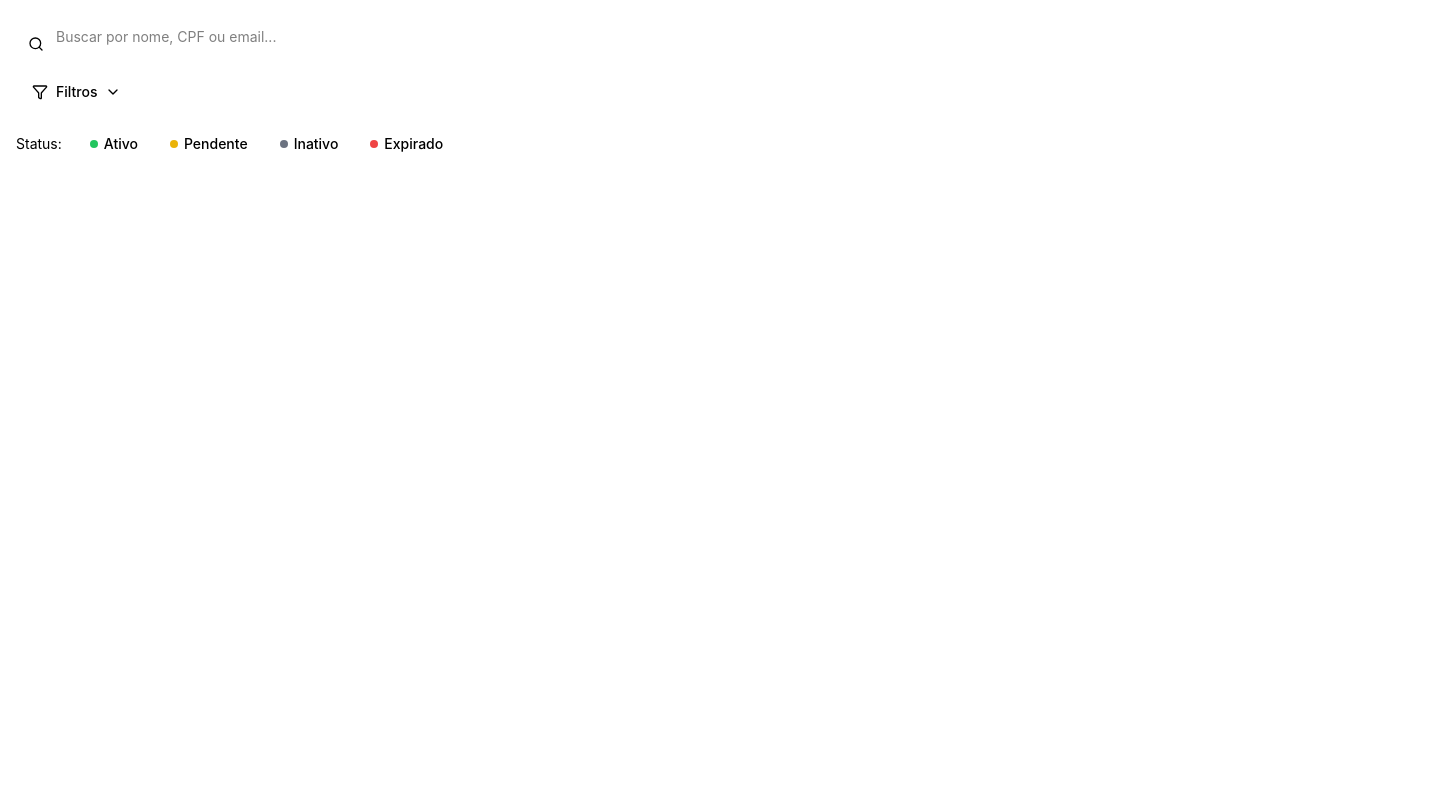
Test case: MemberFilters › should hide advanced filters when Filtros button clicked again
What coordinates should you click on to do the following:
click the button "Filtros"
I would click on:
 (77, 92)
Its box is x1=16 y1=72 x2=137 y2=112.
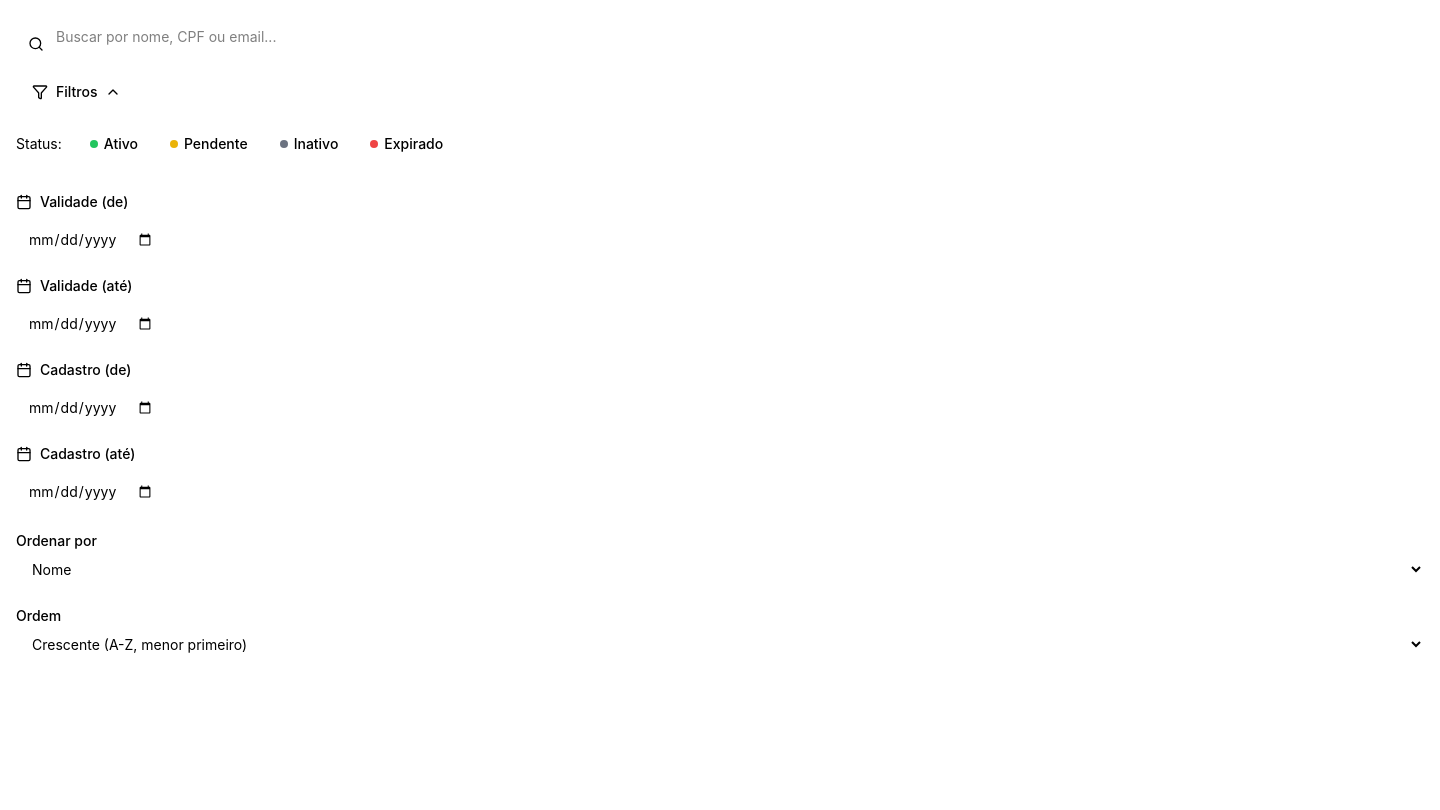
Expected: the text "Validade (de)" is shown, x1=16 y1=193 x2=128 y2=210
What coordinates should you click on to do the following:
click the button "Filtros"
I would click on:
 (77, 92)
Its box is x1=16 y1=72 x2=137 y2=112.
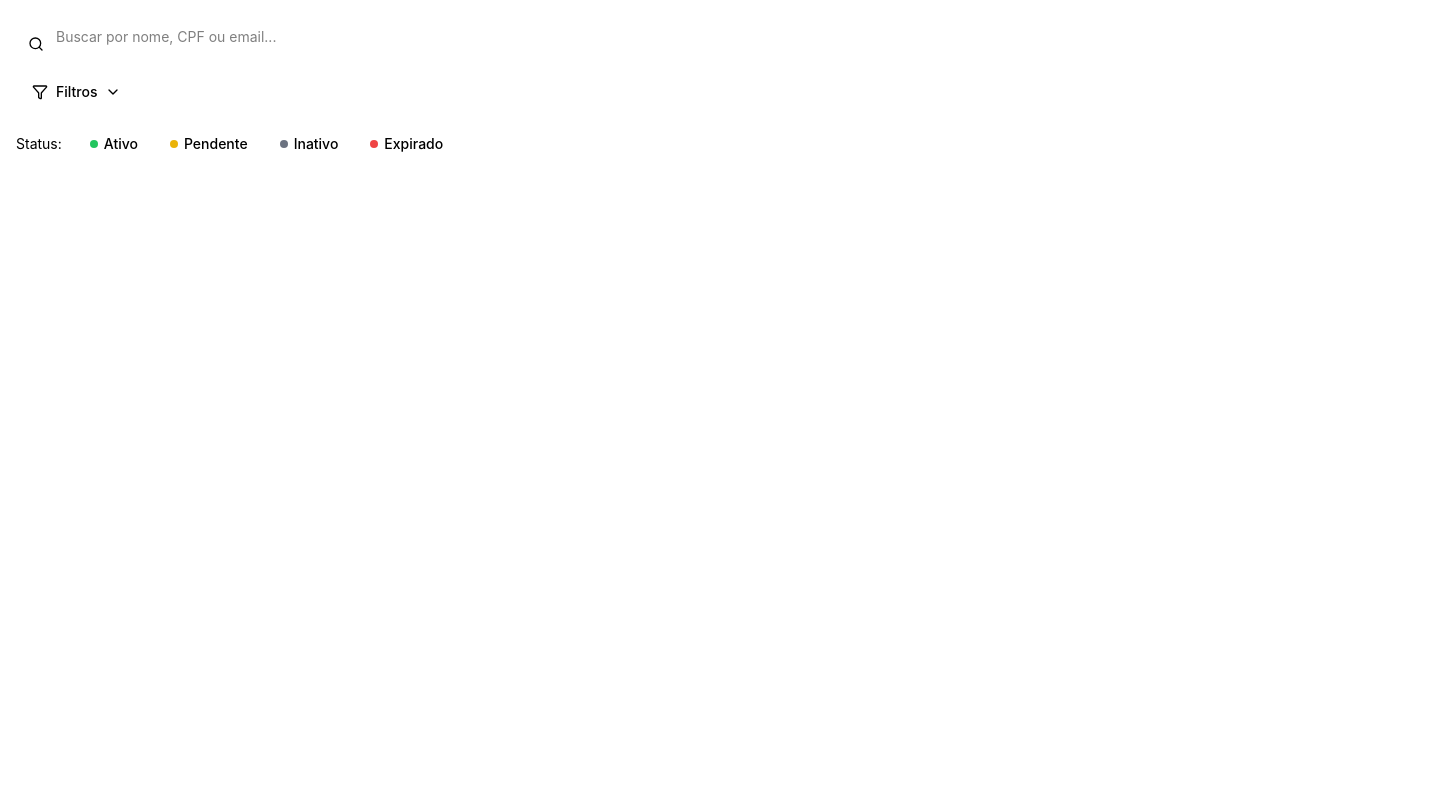
Expected: the text "Validade (de)" is gone
